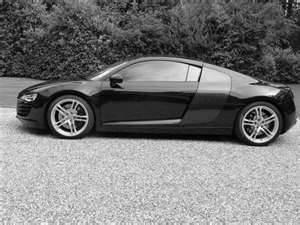car: (16, 54, 300, 146)
